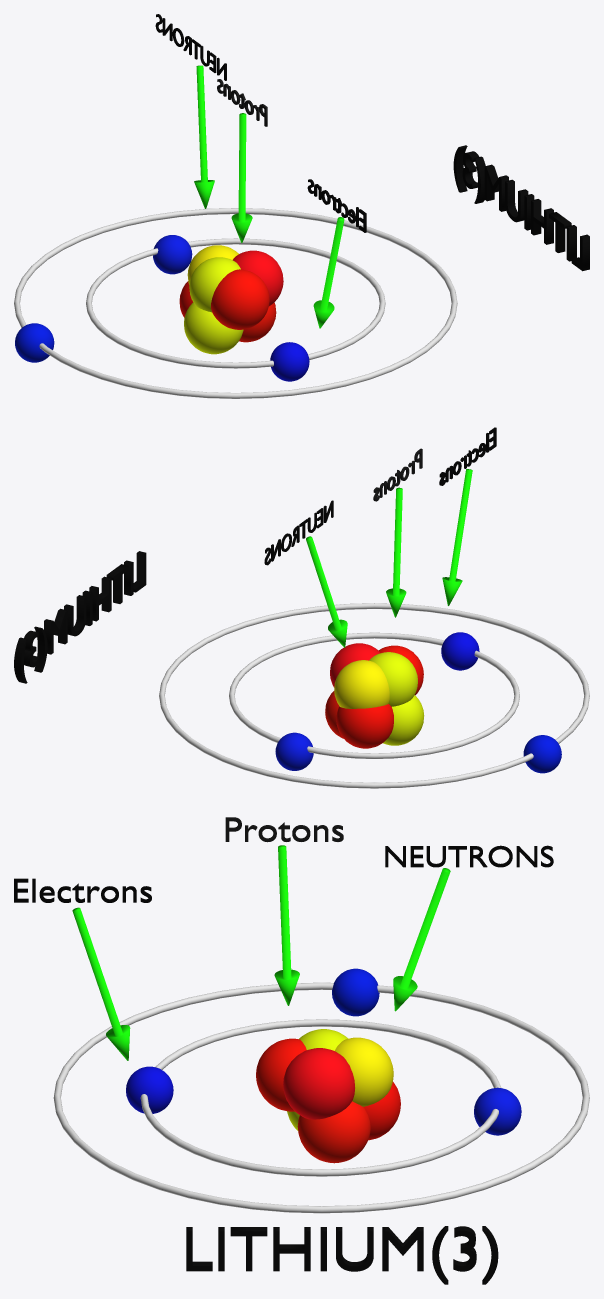
Rendered from Lithium Atomic Model.gltf.
The picture shows the model from 3 angles, top to bottom: view 1: azimuth 30°, elevation 25°; view 2: azimuth 150°, elevation 25°; view 3: azimuth 270°, elevation 25°; orthographic projection. The views are drawn at different scales.
Visible parts, largest first — view 1: Torus.001, Text, Torus, Sphere.006, Sphere.004, Sphere.003, Sphere, Sphere.007, Sphere.008, Cylinder.001, Sphere.009, Cylinder.000 (+6 smaller); view 2: Torus.001, Text, Torus, Sphere.001, Sphere.005, Sphere.003, Sphere.004, Sphere.007, Sphere.008, Cylinder.003, Sphere.009, Cylinder.000 (+6 smaller); view 3: Torus.001, Text, Torus, Sphere, Sphere.002, Sphere.001, Sphere.006, Sphere.009, Text.003, Sphere.007, Cylinder.000, Cylinder.003 (+6 smaller).
Part boxes in pixels (bbox=[...]): Torus.001: bbox=[14, 208, 457, 398]; Text: bbox=[453, 145, 589, 271]; Torus: bbox=[86, 238, 385, 368]; Sphere.006: bbox=[211, 269, 269, 329]; Sphere.004: bbox=[184, 302, 243, 354]; Sphere.003: bbox=[189, 257, 240, 312]; Sphere: bbox=[233, 250, 283, 306]; Sphere.007: bbox=[270, 342, 309, 381]; Sphere.008: bbox=[153, 235, 192, 274]; Cylinder.001: bbox=[194, 65, 214, 208]; Sphere.009: bbox=[15, 323, 54, 362]; Cylinder.000: bbox=[231, 113, 252, 242]; Torus.001: bbox=[159, 603, 589, 788]; Text: bbox=[14, 551, 146, 683]; Torus: bbox=[229, 632, 519, 758]; Sphere.001: bbox=[334, 660, 389, 708]; Sphere.005: bbox=[336, 704, 393, 748]; Sphere.003: bbox=[369, 652, 417, 706]; Sphere.004: bbox=[383, 695, 424, 745]; Sphere.007: bbox=[441, 632, 479, 670]; Sphere.008: bbox=[275, 732, 313, 770]; Cylinder.003: bbox=[442, 469, 472, 605]; Sphere.009: bbox=[523, 735, 561, 773]; Cylinder.000: bbox=[386, 487, 406, 617]; Torus.001: bbox=[53, 982, 589, 1213]; Text: bbox=[186, 1226, 498, 1284]; Torus: bbox=[140, 1019, 501, 1176]; Sphere: bbox=[283, 1048, 354, 1119]; Sphere.002: bbox=[297, 1101, 370, 1163]; Sphere.001: bbox=[335, 1037, 393, 1106]; Sphere.006: bbox=[256, 1038, 306, 1111]; Sphere.009: bbox=[332, 968, 379, 1016]; Text.003: bbox=[385, 845, 553, 867]; Sphere.007: bbox=[126, 1066, 173, 1113]; Cylinder.000: bbox=[274, 845, 299, 1005]; Cylinder.003: bbox=[72, 907, 130, 1060].
Bounding box in the file's own units: 5.46 × 2.81 × 4.48.
